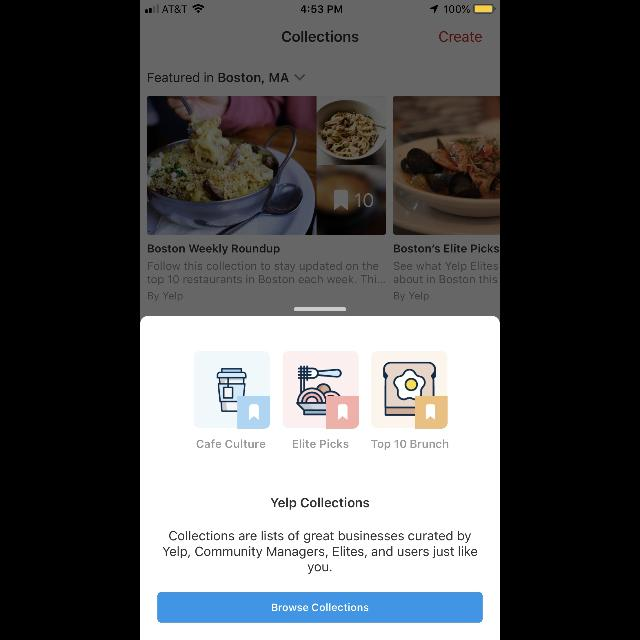image: (194, 351, 270, 429), (283, 352, 359, 428), (371, 352, 447, 428)
panel: (140, 316, 500, 640)
text: (162, 530, 478, 574), (270, 496, 370, 509), (372, 440, 448, 450), (197, 439, 266, 448), (293, 439, 349, 448)
textbutton: (158, 592, 482, 622)
uppertaskbar: (140, 0, 500, 14)
